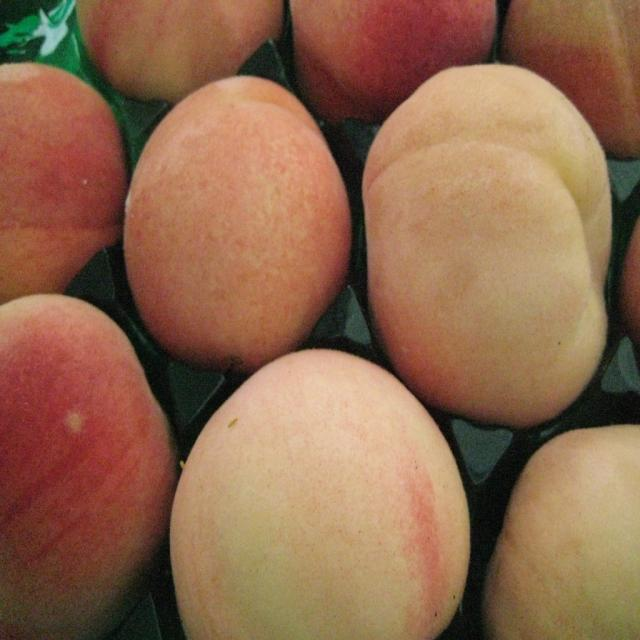Peach: (0, 0, 639, 639), (126, 76, 350, 367)
